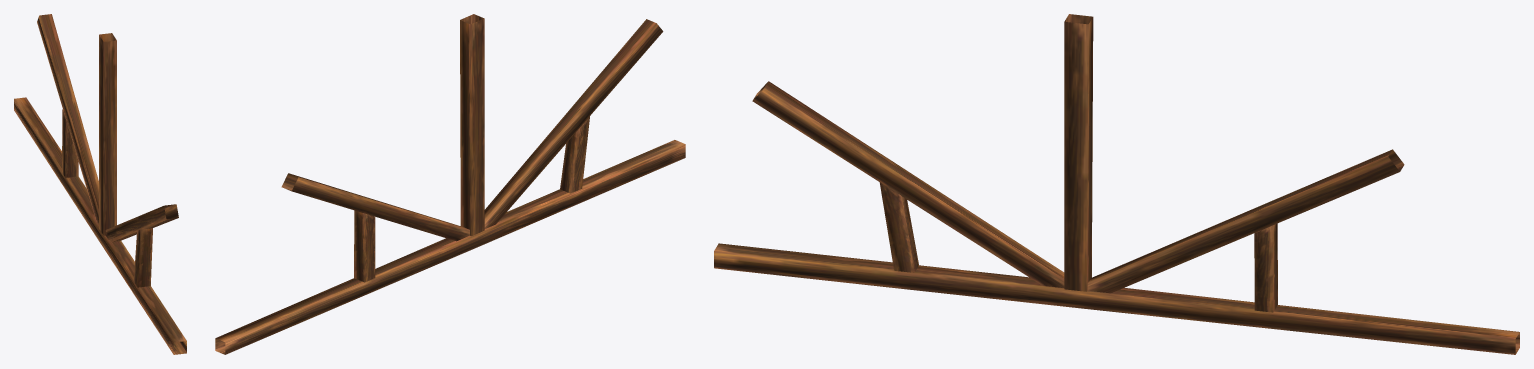
File: SWORDLIGHT20_JAILCEILBRACKET22.fbx
3 renders of one model, left to right at view 1: azimuth 30°, elevation 25°; view 2: azimuth 150°, elevation 25°; view 3: azimuth 270°, elevation 25°, orthographic. The views are drawn at different scales.
Parts seen in each view (by area): view 1: SWORDLIGHT20_JAILCEILBRACKET22; view 2: SWORDLIGHT20_JAILCEILBRACKET22; view 3: SWORDLIGHT20_JAILCEILBRACKET22.
Part boxes in pixels (x1,y1,x2,y2): SWORDLIGHT20_JAILCEILBRACKET22: [14, 14, 186, 354]; SWORDLIGHT20_JAILCEILBRACKET22: [215, 14, 685, 354]; SWORDLIGHT20_JAILCEILBRACKET22: [714, 14, 1519, 354].
Bounding box in the file's own units: 35540 × 49666 × 127345.
1 material, 1 textured.
